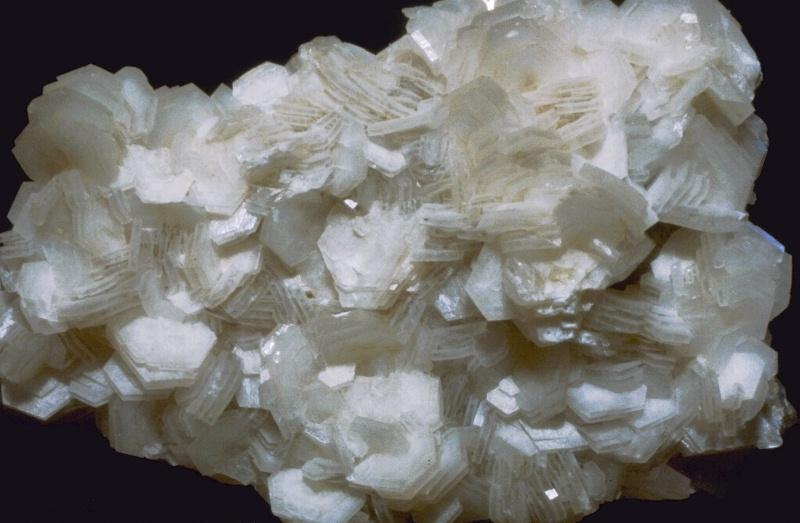calcite: (0, 0, 795, 522)
